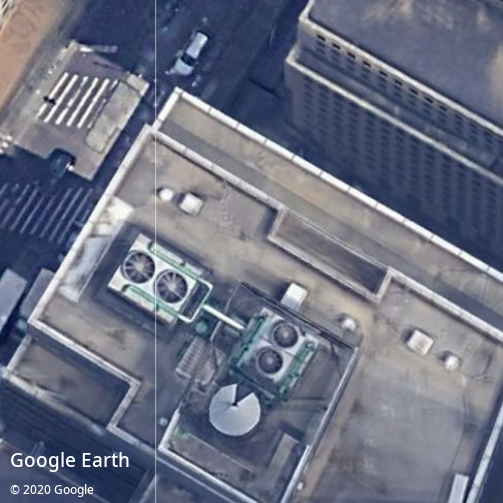Vent: (157, 271, 188, 303), (124, 252, 154, 284), (257, 349, 283, 375), (273, 324, 298, 348)
